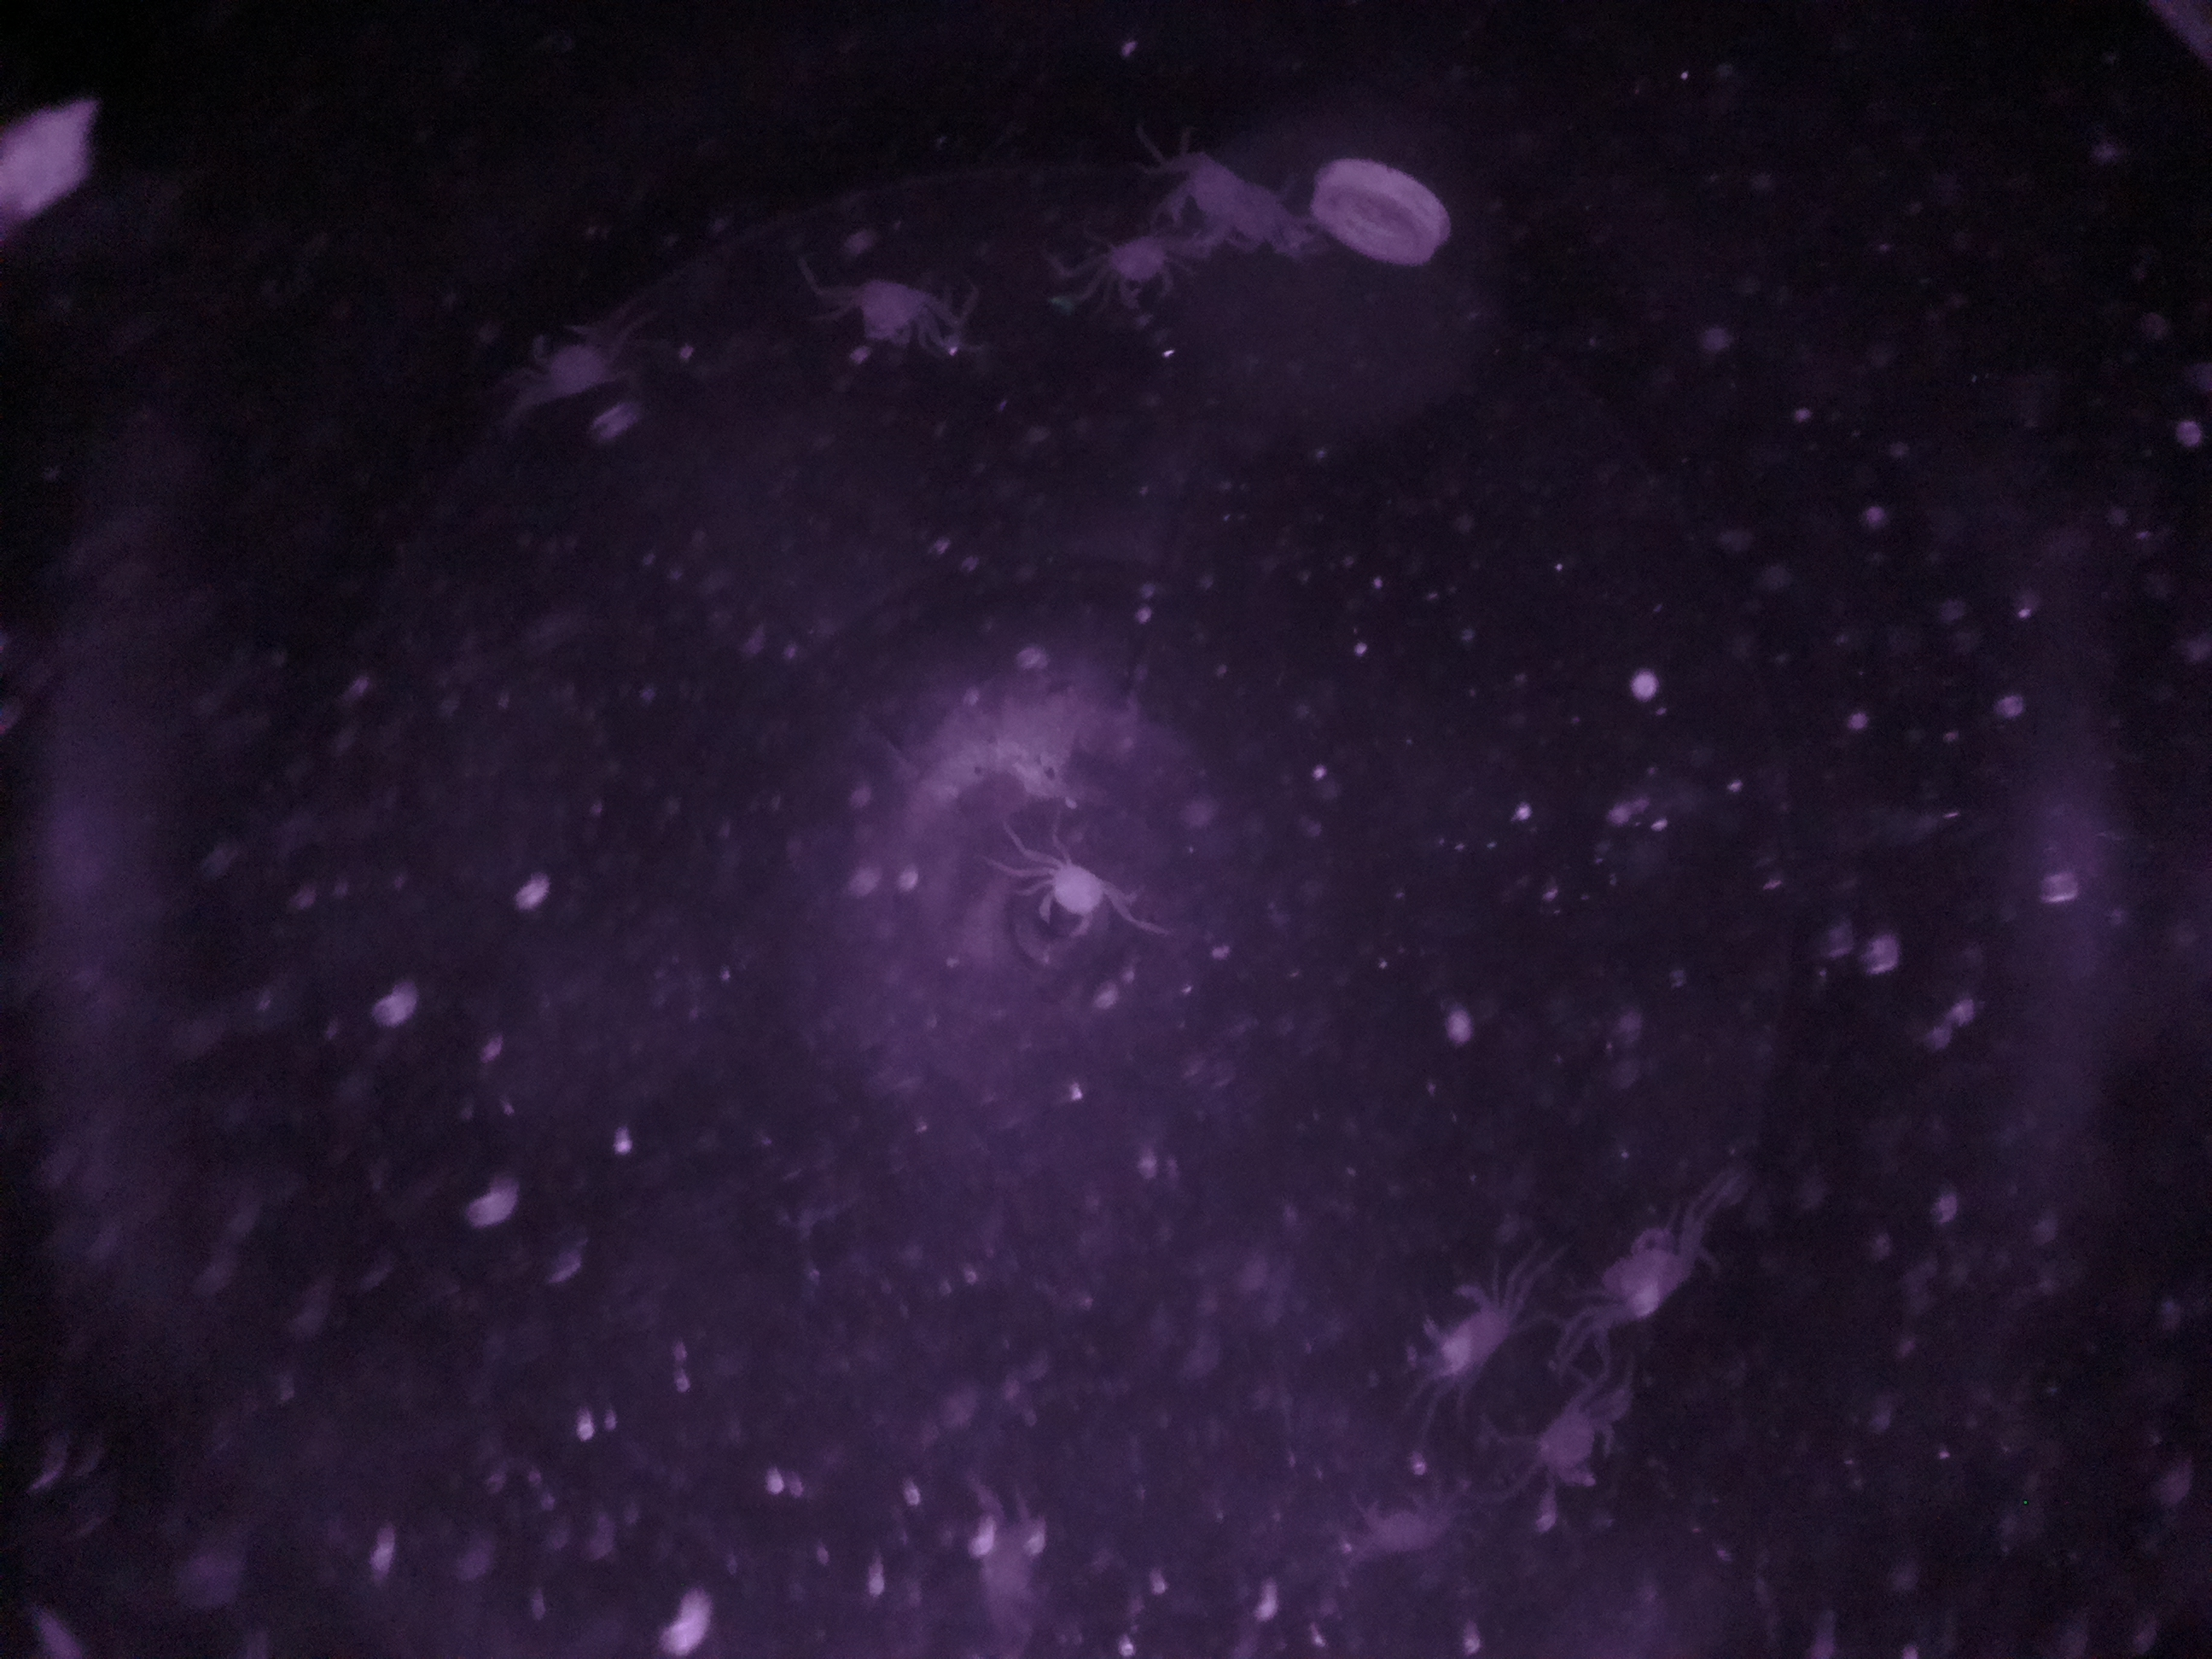Crab: (1413, 1255, 1524, 1396), (1514, 1385, 1627, 1504), (1021, 836, 1125, 953), (1106, 221, 1205, 324)
